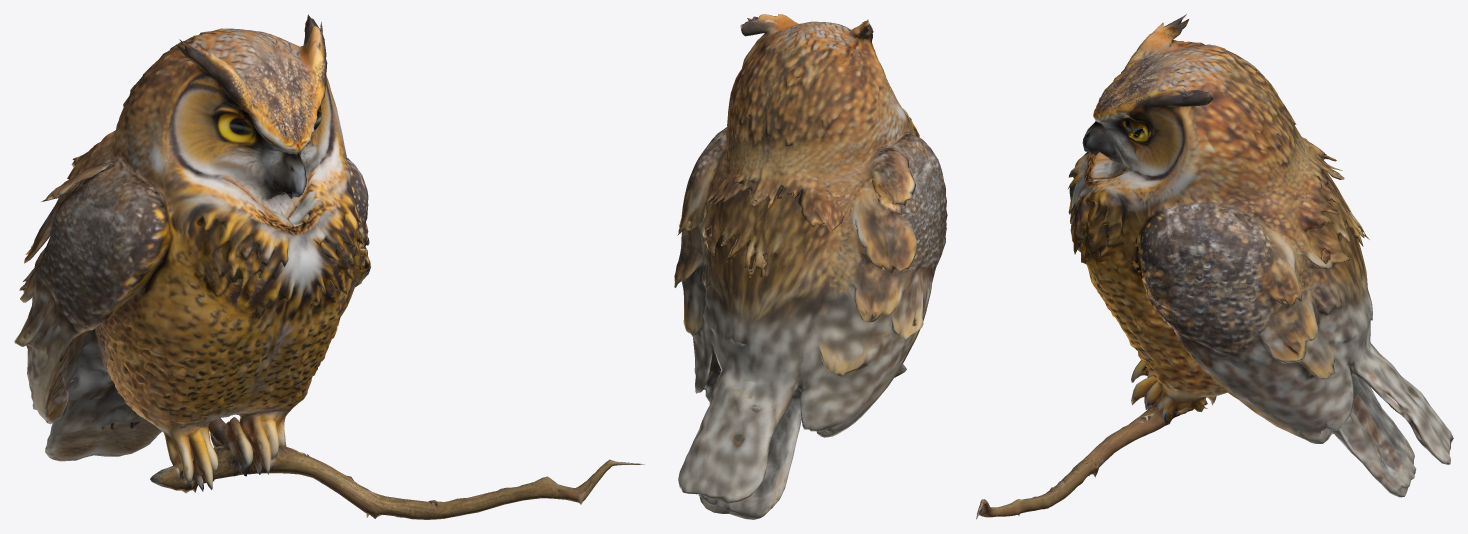
File: owl.glb
3 renders of one model, left to right at view 1: azimuth 30°, elevation 25°; view 2: azimuth 150°, elevation 25°; view 3: azimuth 270°, elevation 25°, orthographic. The views are drawn at different scales.
Bounding box in the file's own units: 1.76 × 1.93 × 1.85.
Materials: 1 (1 with a texture image).
